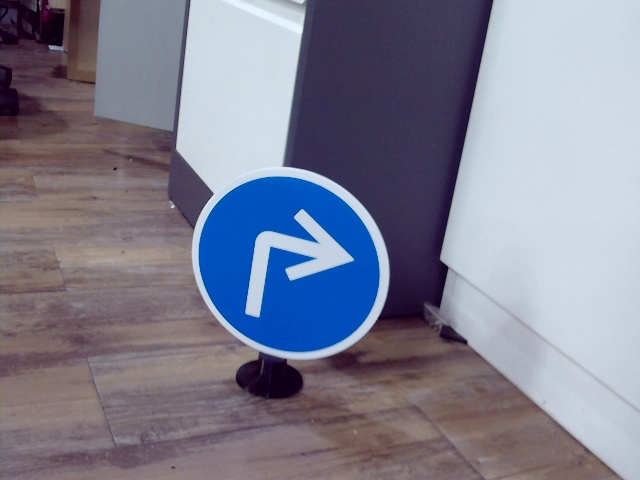turn_right: (246, 209, 352, 325)
